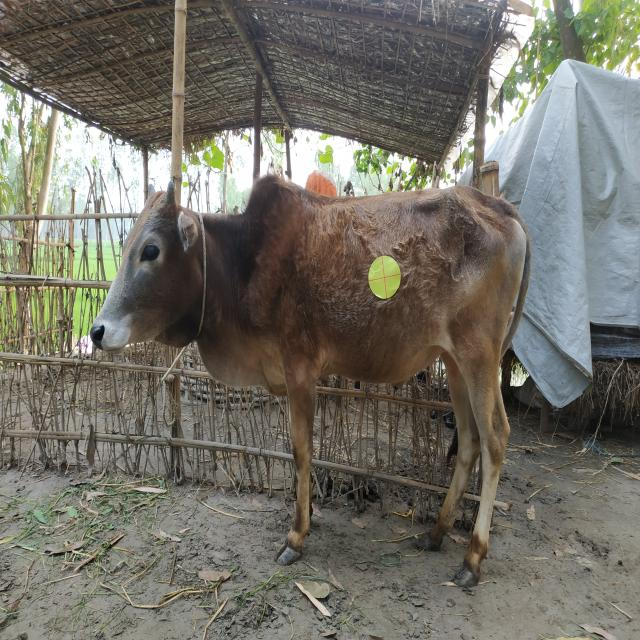badan_sapi: (245, 195, 519, 384)
sapi: (88, 163, 535, 602)
